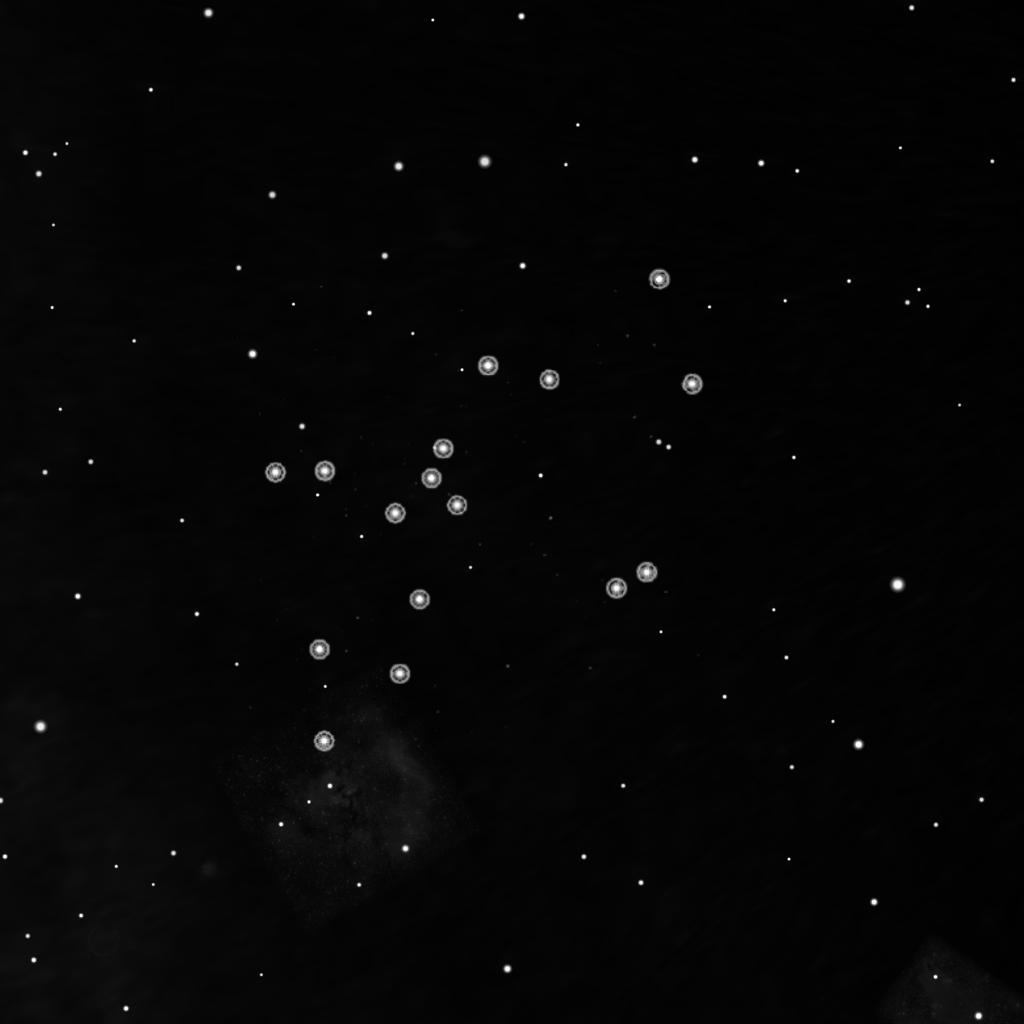canis_major: (380, 350, 563, 531)
